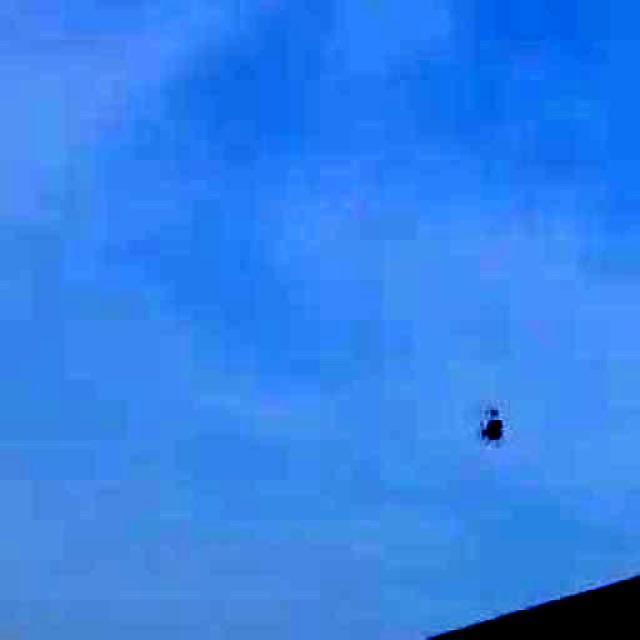drone: (464, 382, 526, 466)
